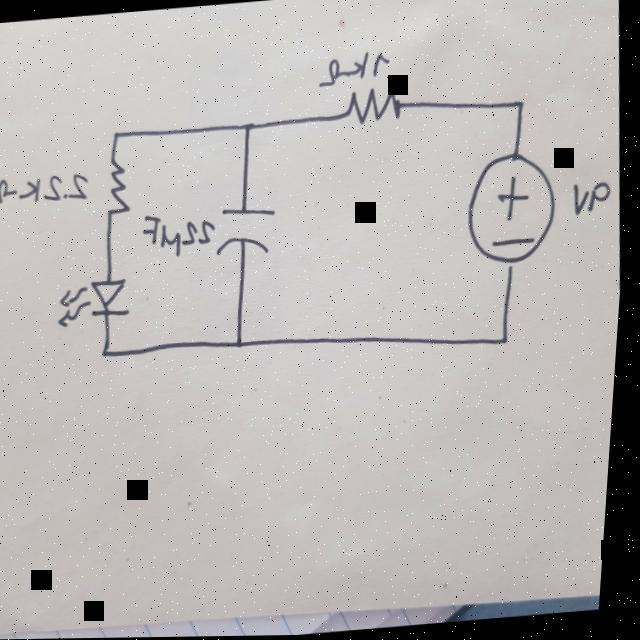capacitor: (216, 199, 282, 263)
diode: (54, 270, 138, 327)
junction: (238, 116, 256, 141), (235, 330, 252, 354), (509, 98, 529, 118), (500, 330, 518, 348), (102, 344, 119, 359), (109, 126, 124, 142)
resistor: (328, 83, 409, 129), (103, 158, 137, 215)
source: (461, 148, 563, 270)
text: (141, 205, 222, 261), (0, 168, 94, 211), (316, 46, 394, 88), (570, 179, 618, 219)
